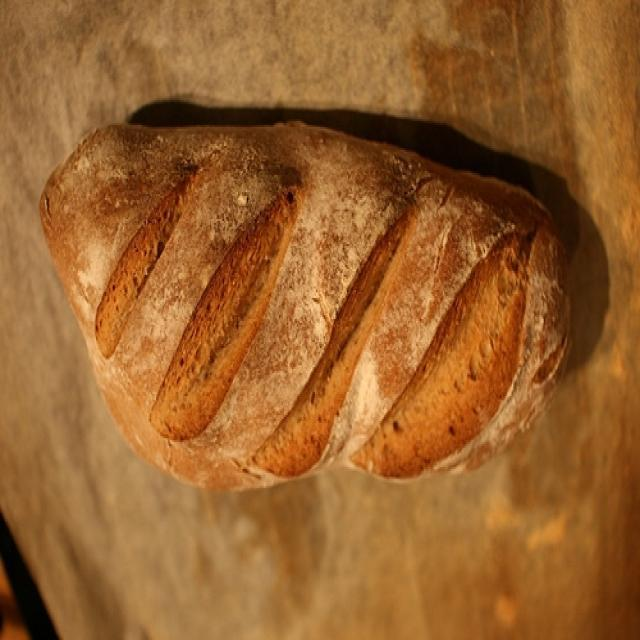Bread: (48, 145, 580, 506)
